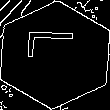L_E: (26, 38, 84, 72)
